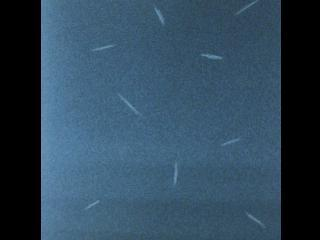scratch: (114, 88, 144, 120), (241, 207, 273, 235), (150, 1, 171, 30), (87, 40, 120, 56), (198, 48, 228, 65), (231, 0, 261, 16), (216, 133, 244, 150), (79, 196, 105, 214), (169, 158, 183, 188)
